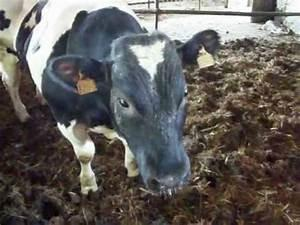cow: (6, 0, 221, 199)
